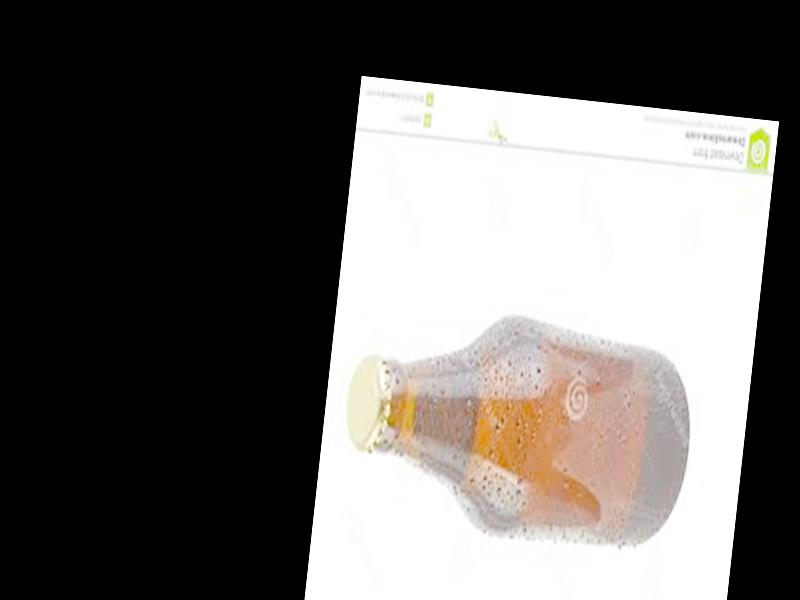Beer: (336, 300, 699, 556)
